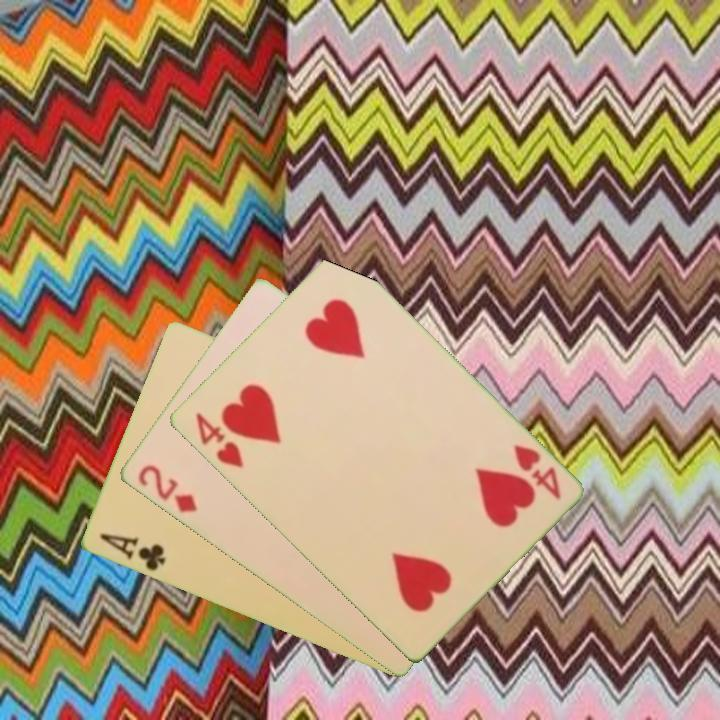2d: (134, 461, 200, 516)
4h: (191, 408, 246, 471), (509, 440, 564, 503)
Ac: (95, 530, 168, 574)
